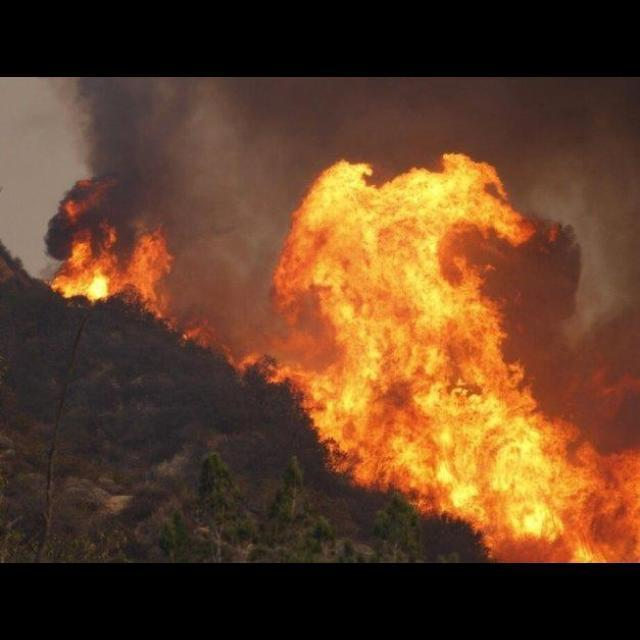Fire: (228, 152, 640, 564), (46, 176, 176, 320)
Smoke: (42, 78, 640, 452)
